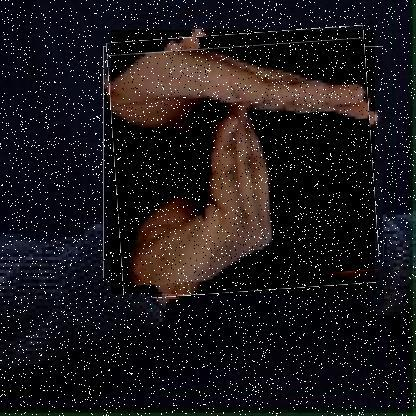Z: (111, 30, 376, 295)
